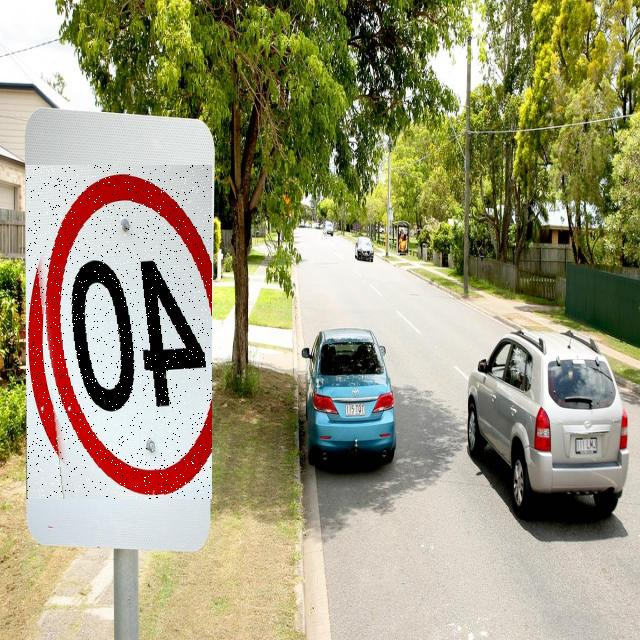speed limit 40: (26, 165, 212, 499)
